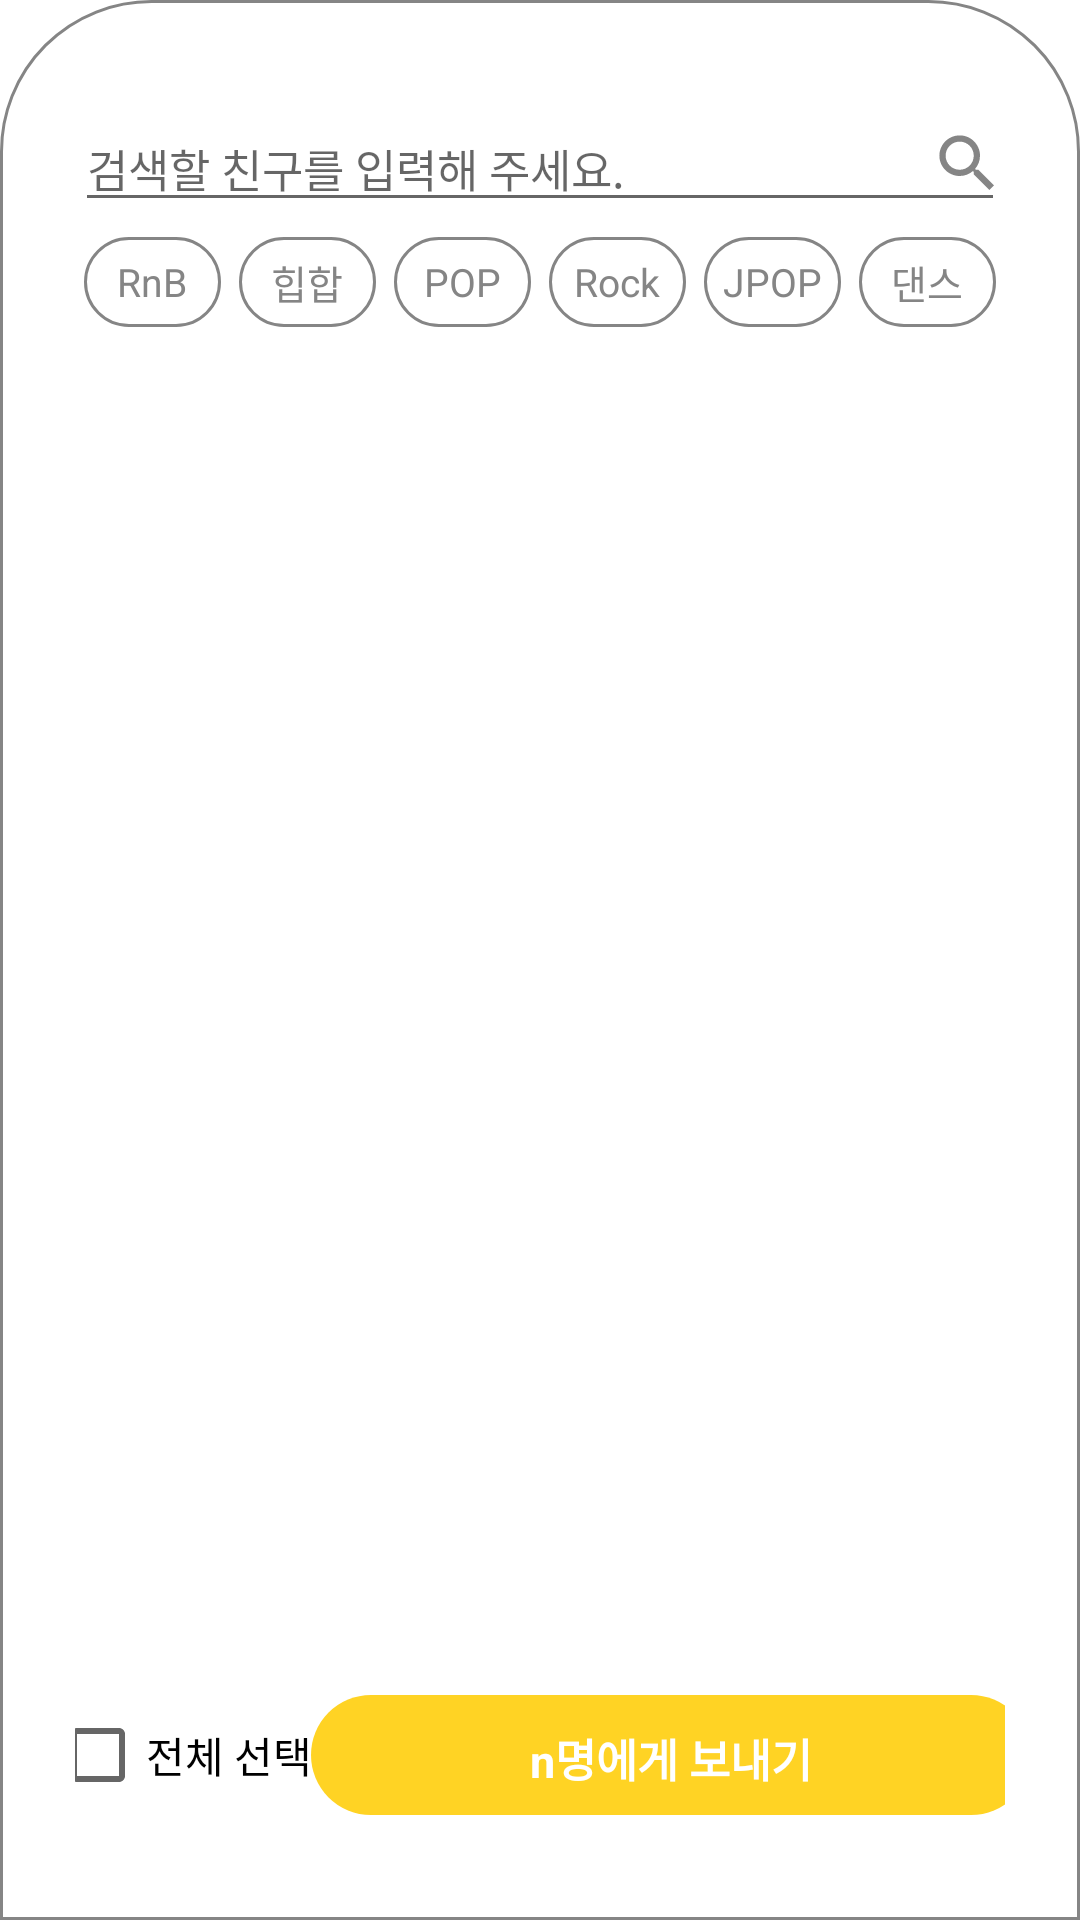

Point at icon controls on the screen. Image size 1080 x 1920, points as [x,y].
all search: [966,162]
